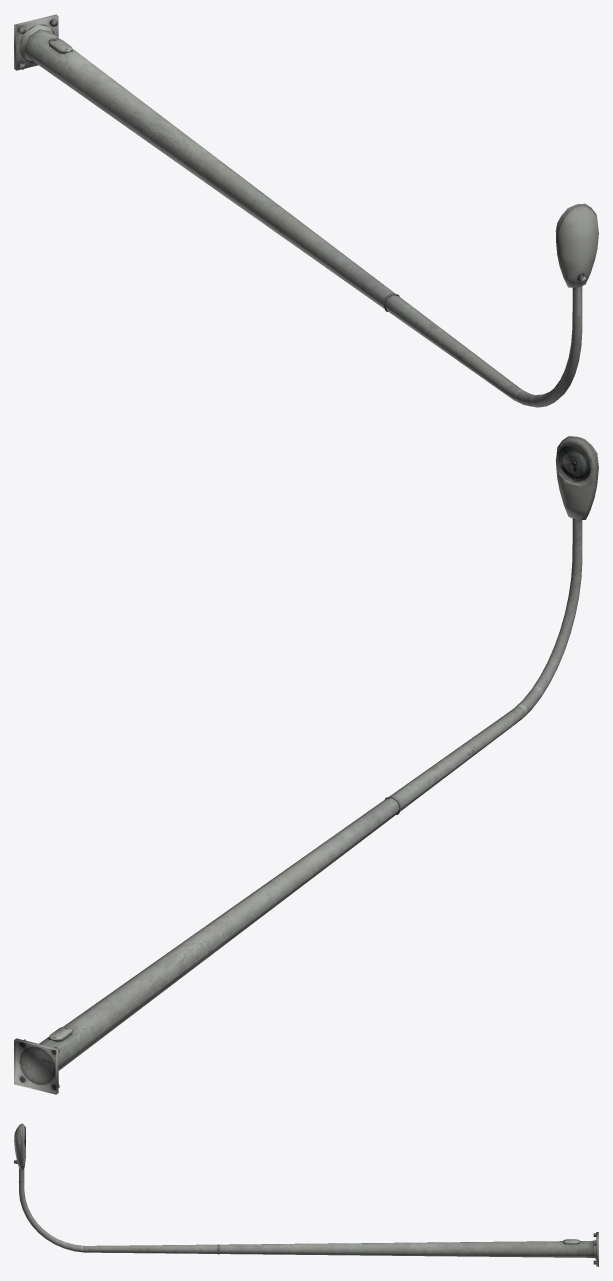
File: street_lamp.dae
The picture shows the model from 3 angles, top to bottom: view 1: azimuth 30°, elevation 25°; view 2: azimuth 150°, elevation 25°; view 3: azimuth 270°, elevation 25°; orthographic projection. The views are drawn at different scales.
Parts seen in each view (by area): view 1: Mesh; view 2: Mesh; view 3: Mesh.
Part boxes in pixels (bbox=[...]): Mesh: bbox=[14, 14, 598, 407]; Mesh: bbox=[14, 436, 598, 1094]; Mesh: bbox=[14, 1123, 598, 1266].
Bounding box in the file's own units: 20 × 450 × 116.
1 material, 1 textured.
